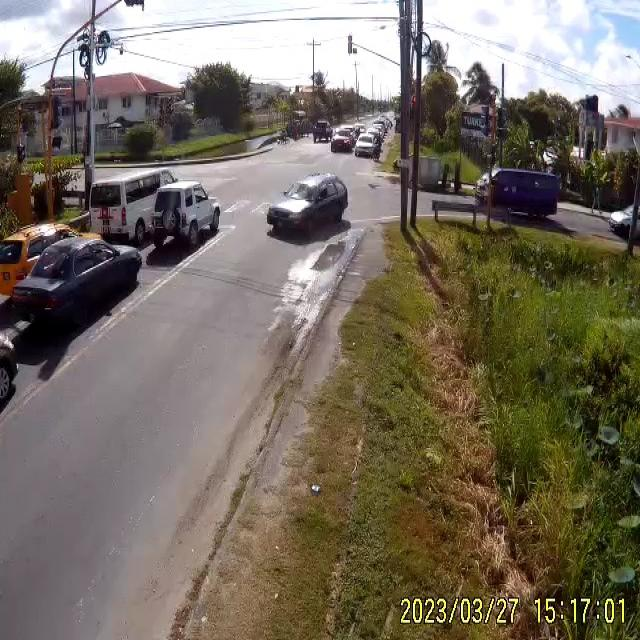car: (3, 234, 142, 339), (1, 222, 80, 300), (265, 173, 350, 242), (149, 183, 224, 253), (484, 168, 560, 219), (607, 206, 638, 240), (330, 131, 356, 155), (356, 133, 379, 157)
